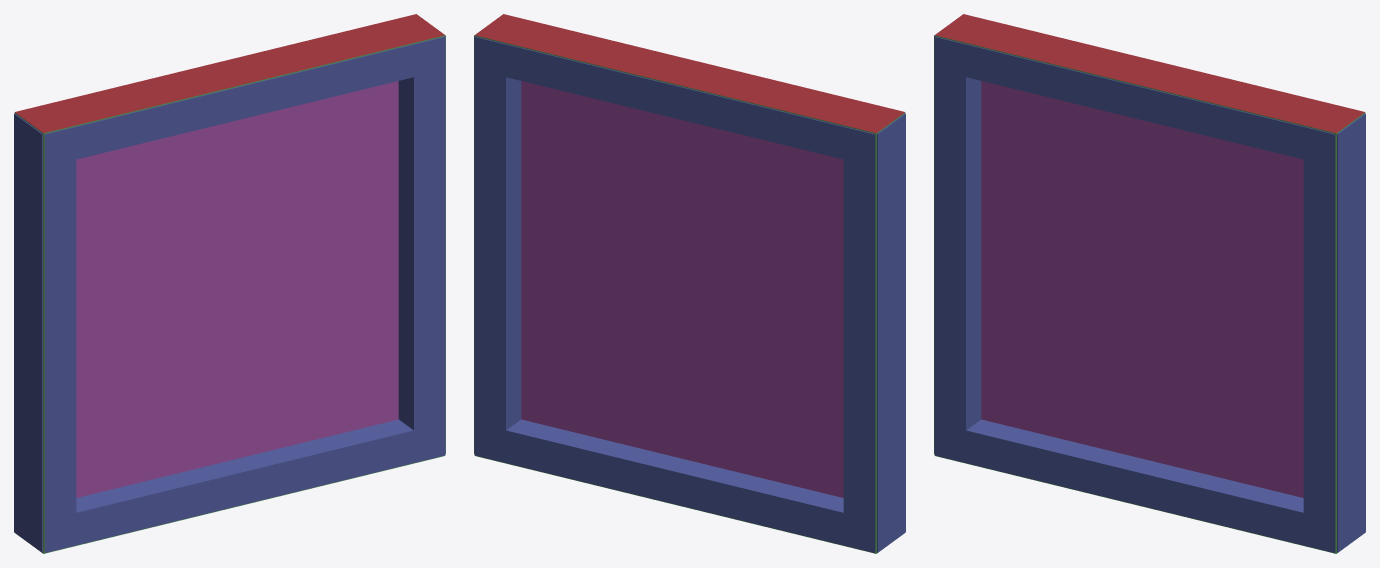
File: SN_Window_Test_01.fbx
3 views of the same model, side by side, from view 1: azimuth 30°, elevation 25°; view 2: azimuth 150°, elevation 25°; view 3: azimuth 330°, elevation 25° (orthographic).
Parts seen in each view (by area): view 1: SN_Window_Test_01; view 2: SN_Window_Test_01; view 3: SN_Window_Test_01.
Boxes of the visible parts, x1,y1,x2,y2 form: SN_Window_Test_01: (14,14,445,553); SN_Window_Test_01: (474,14,905,553); SN_Window_Test_01: (934,14,1365,553).
Size of the model in its own units: 804 by 800 by 104.
